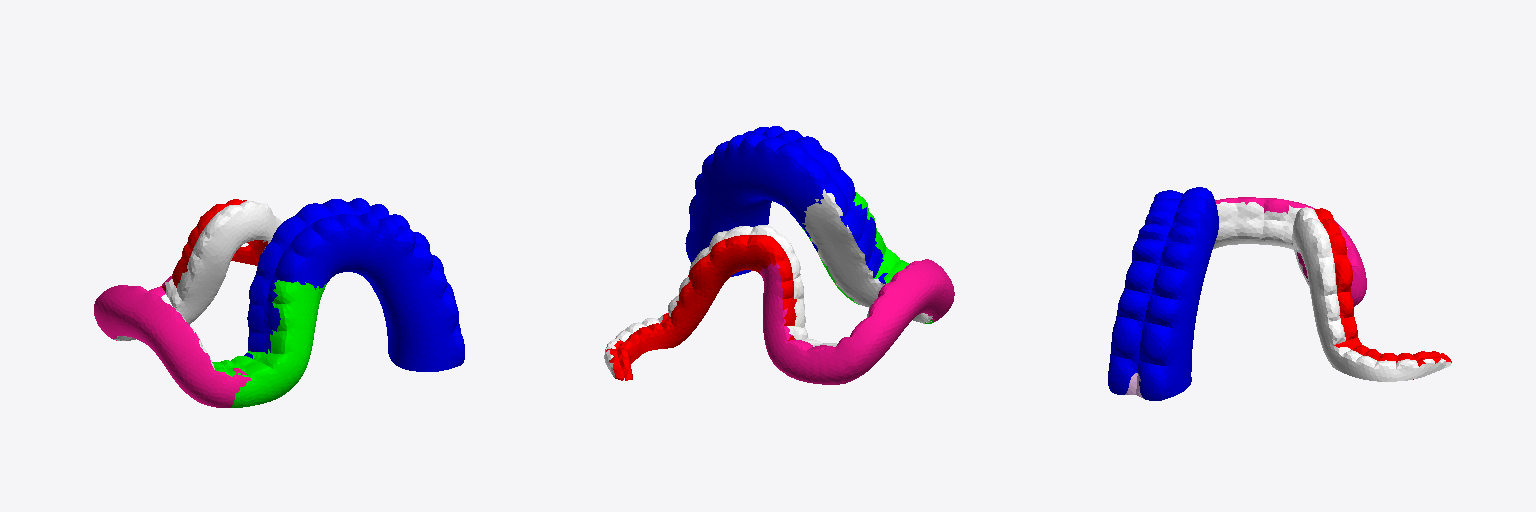
File: model_15971_segmented.obj
The picture shows the model from 3 angles: view 1: azimuth 30°, elevation 25°; view 2: azimuth 150°, elevation 25°; view 3: azimuth 270°, elevation 25°; orthographic projection.
Size of the model in its own units: 75.5 by 38.98 by 79.23.